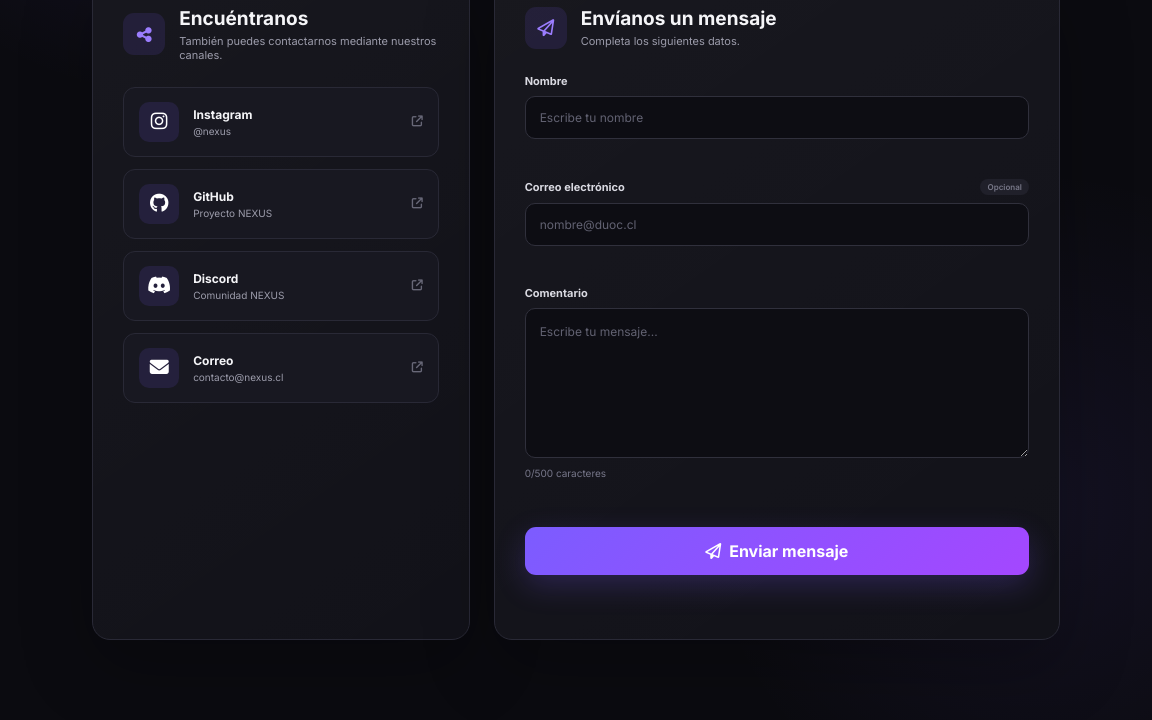
Test: Página Contacto › valida nombre, comentario y dominio de correo sin simular un envío real
This screenshot has width=1152, height=720.
(page scrolled)
Click the button "Enviar mensaje" at (777, 551), box [525,527,1029,575]
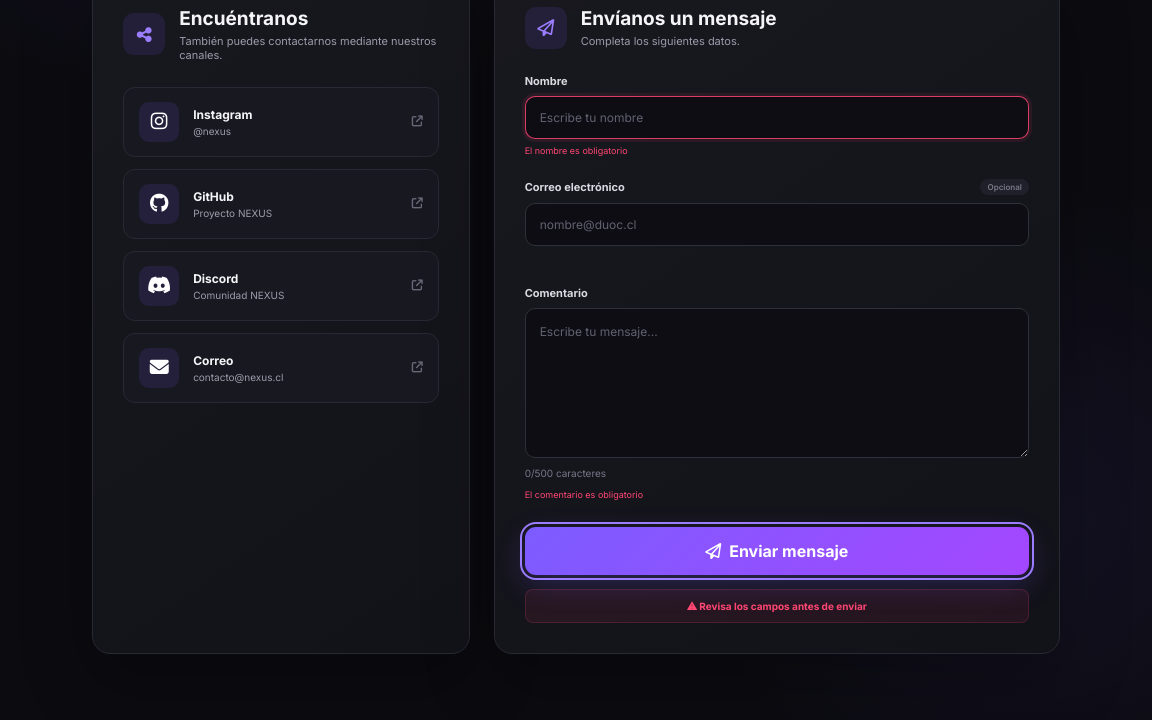
Now the message shows "Revisa los campos", box [687,600,867,612]
Type "Marcial" into the field labelled "Nombre" at (777, 118), box [525,96,1029,139]
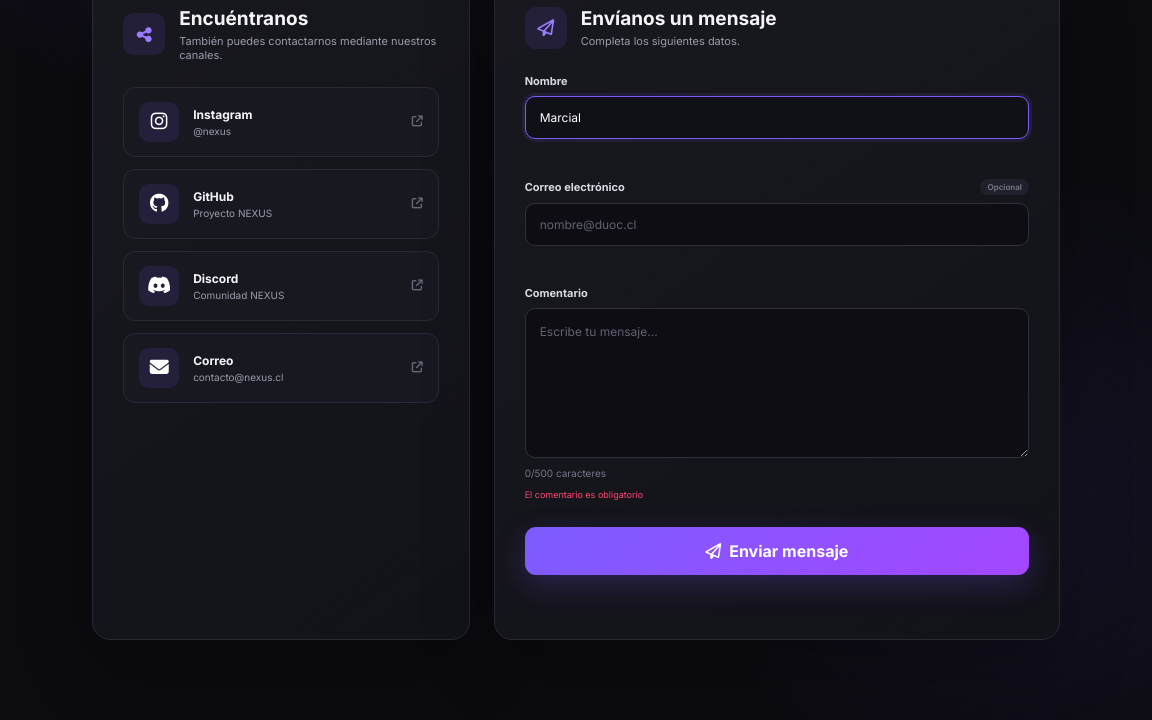
Type "marcial@otro.com" into the field labelled "Correo electrónico Opcional" at (777, 224), box [525,203,1029,246]
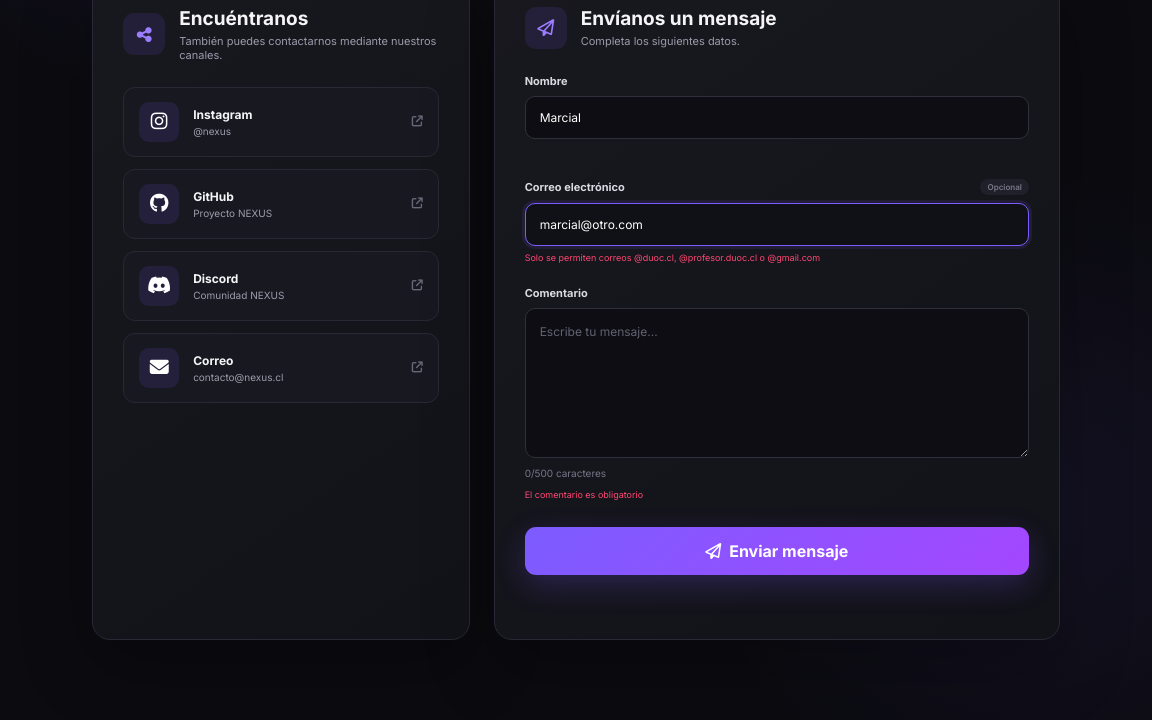
Now the text "Solo se permiten correos" is shown, box [525,252,820,263]
Clear the field labelled "Correo electrónico Opcional" at (777, 224), box [525,203,1029,246]
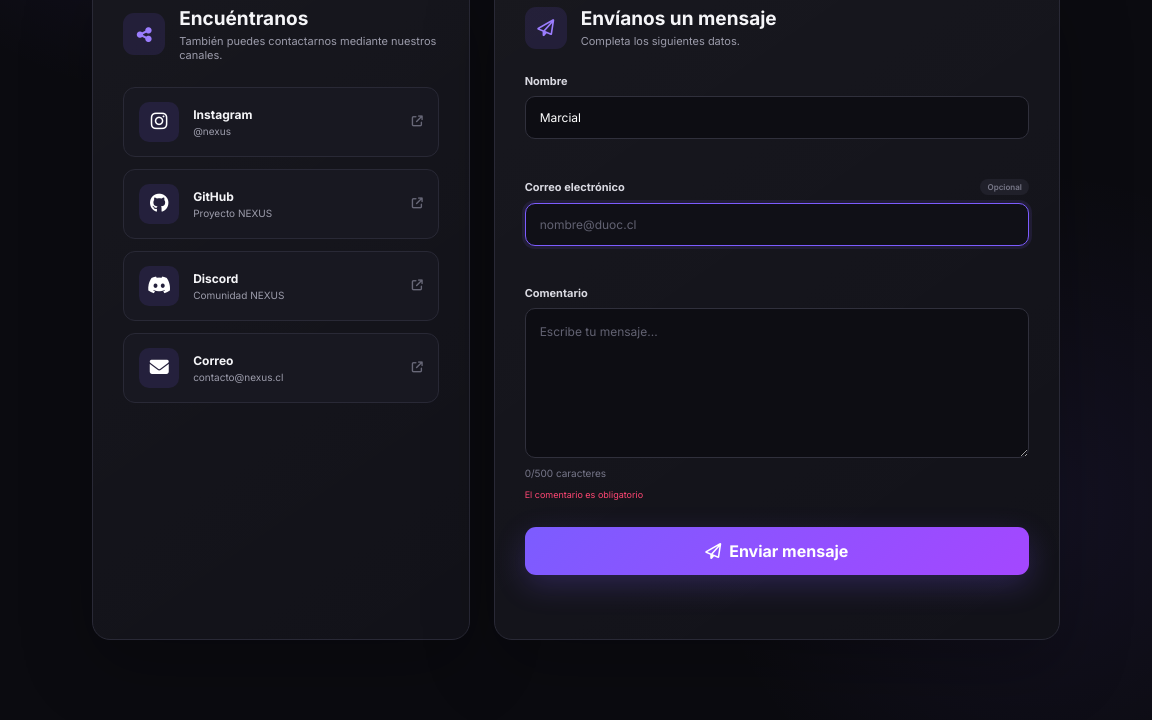
Type "Me gusta Nexus" into the text box labelled "Comentario" at (777, 383), box [525,308,1029,458]
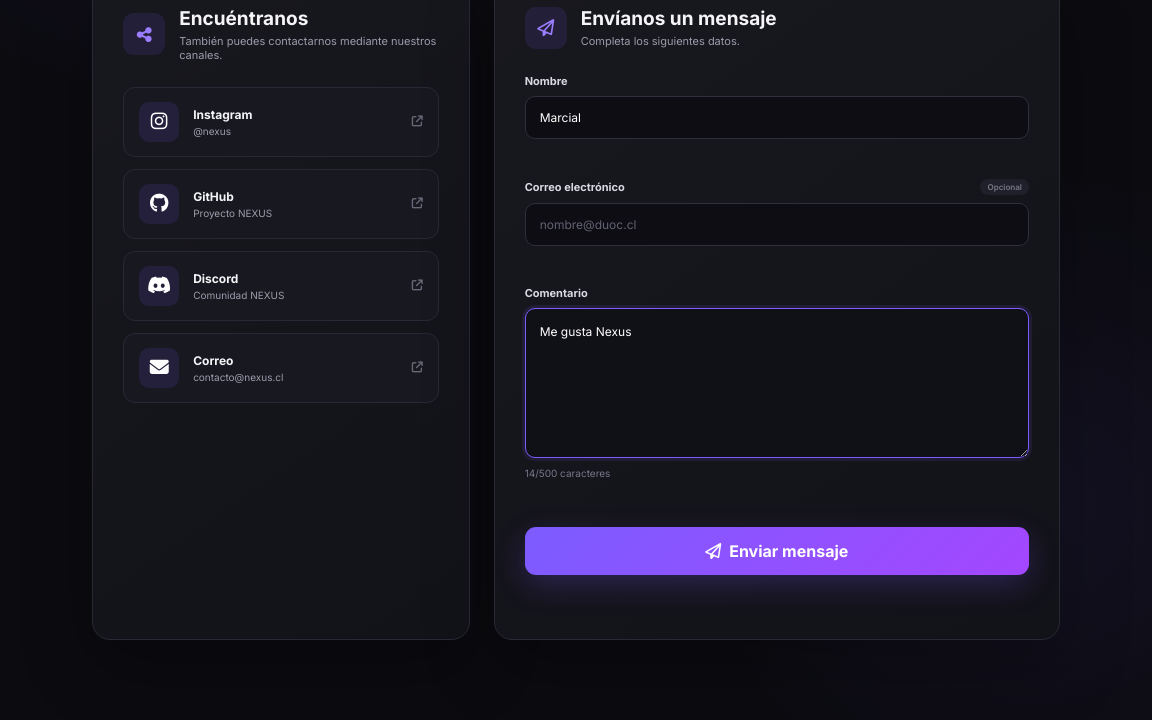
Click the button "Enviar mensaje" at (777, 551), box [525,527,1029,575]
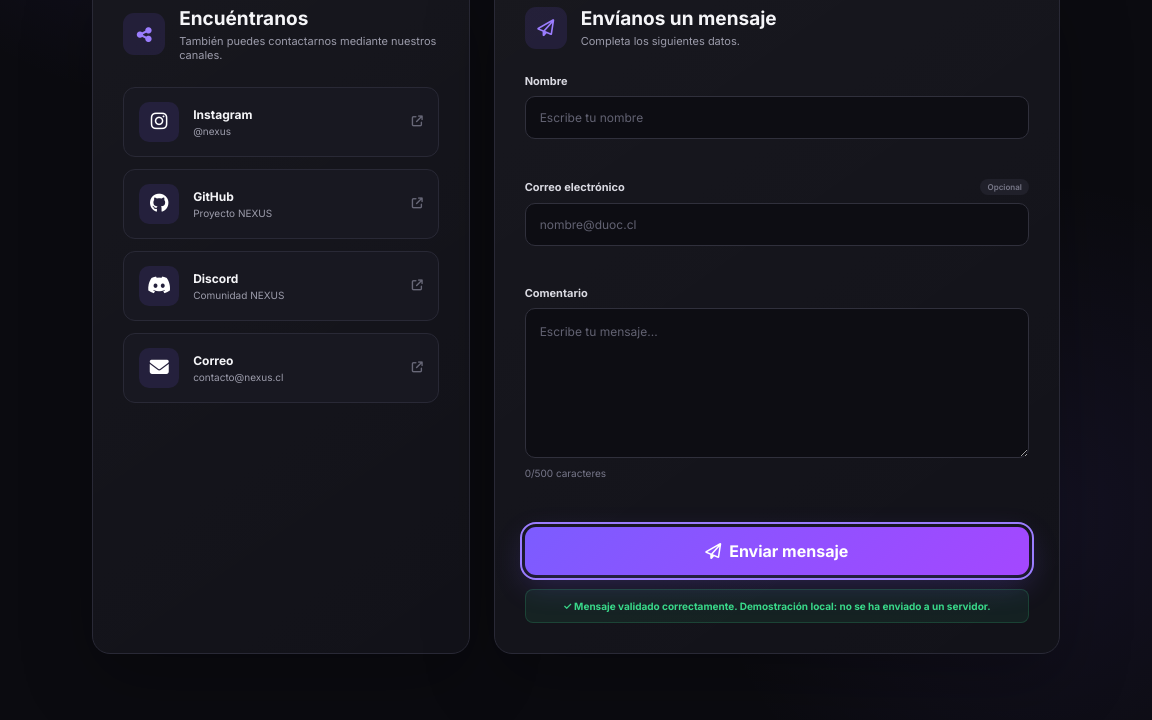
Now the message shows "no se ha enviado a un servidor", box [563,600,991,612]
Now the field labelled "Nombre" is empty, box [525,96,1029,139]
